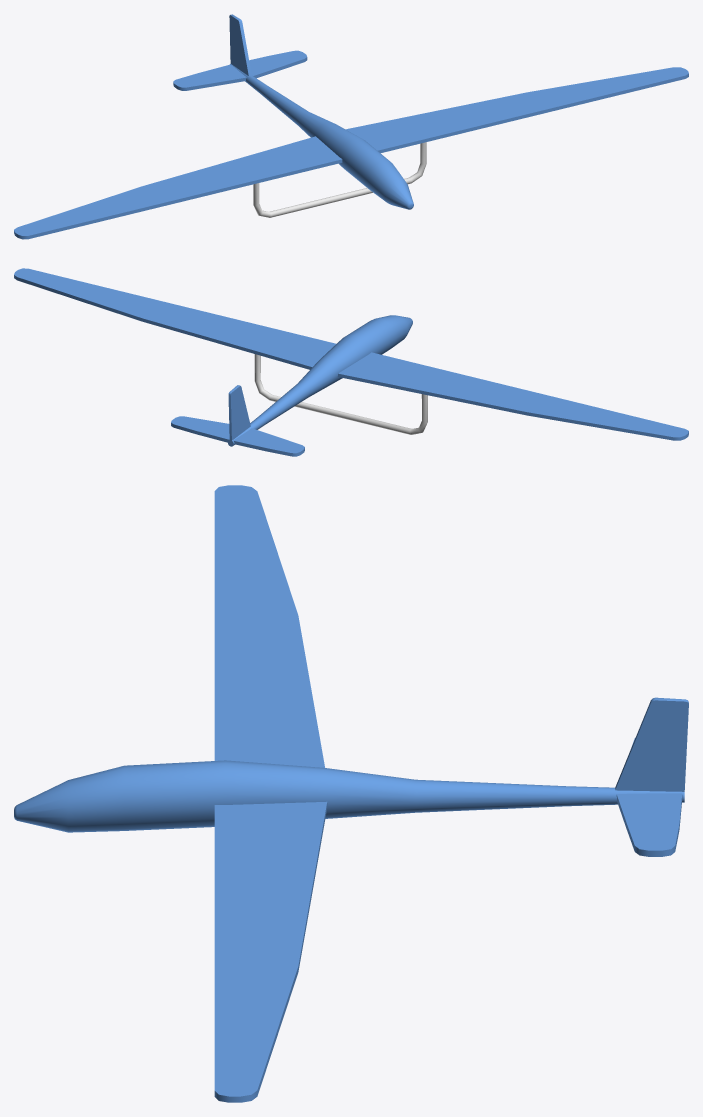
Rendered from F glider.fbx.
3 renders of one model, top to bottom at view 1: azimuth 30°, elevation 25°; view 2: azimuth 150°, elevation 25°; view 3: azimuth 270°, elevation 25°, orthographic. The views are drawn at different scales.
Visible parts, largest first — view 1: Cube.179; view 2: Cube.179; view 3: Cube.179.
Part boxes in pixels (<box>): Cube.179: <box>14,14,688,239</box>; Cube.179: <box>14,268,688,456</box>; Cube.179: <box>14,485,688,1102</box>.
Size of the model in its own units: 1224 by 186 by 571.
